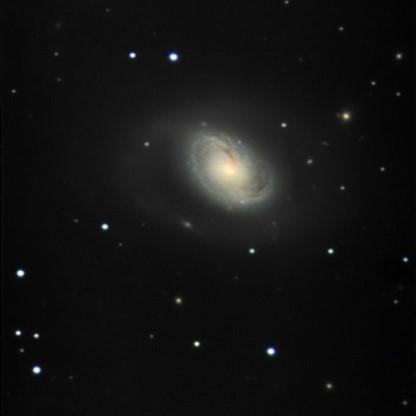Messier 96: (120, 96, 352, 270)
